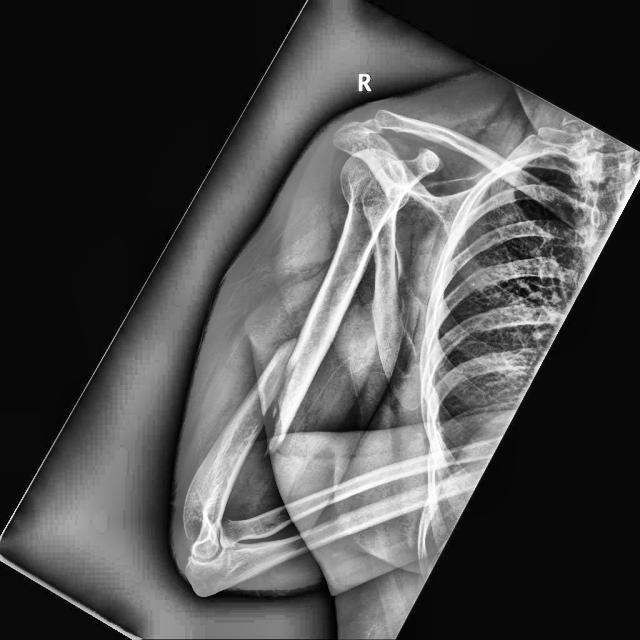messed_up_angle: (248, 333, 313, 461)
